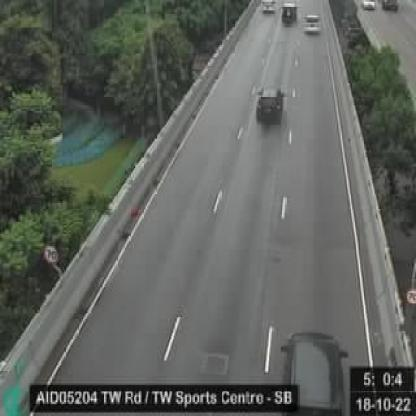Car: (282, 330, 361, 413), (254, 82, 286, 129), (303, 12, 322, 36), (259, 1, 277, 16)
Truck: (282, 2, 299, 26)
